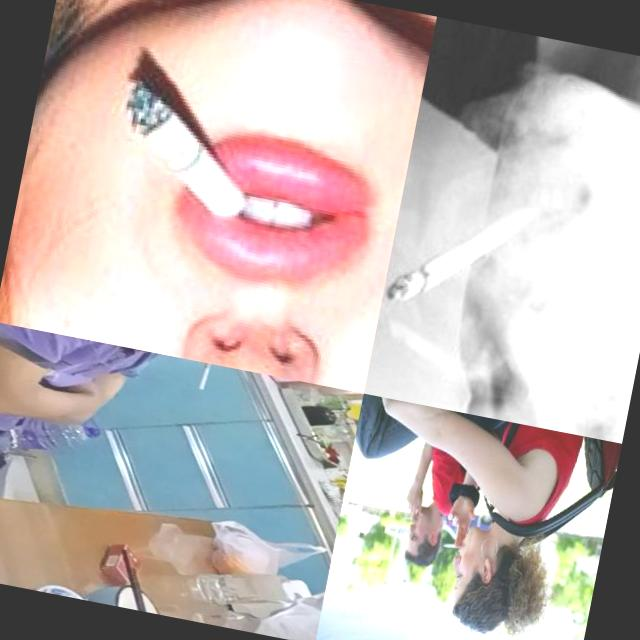cigarette: (109, 82, 262, 221), (384, 186, 527, 324), (442, 532, 466, 555), (198, 363, 212, 391)
